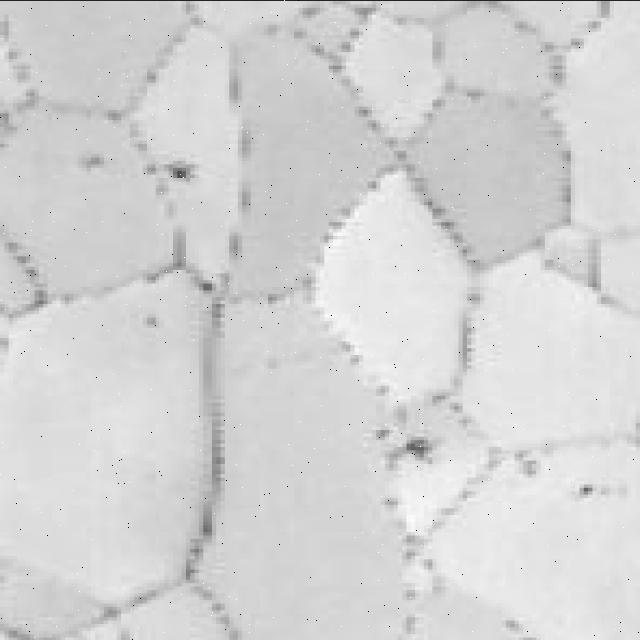good_void: (389, 430, 436, 466), (161, 145, 201, 180), (77, 148, 112, 173), (573, 476, 595, 503), (144, 311, 163, 327)
